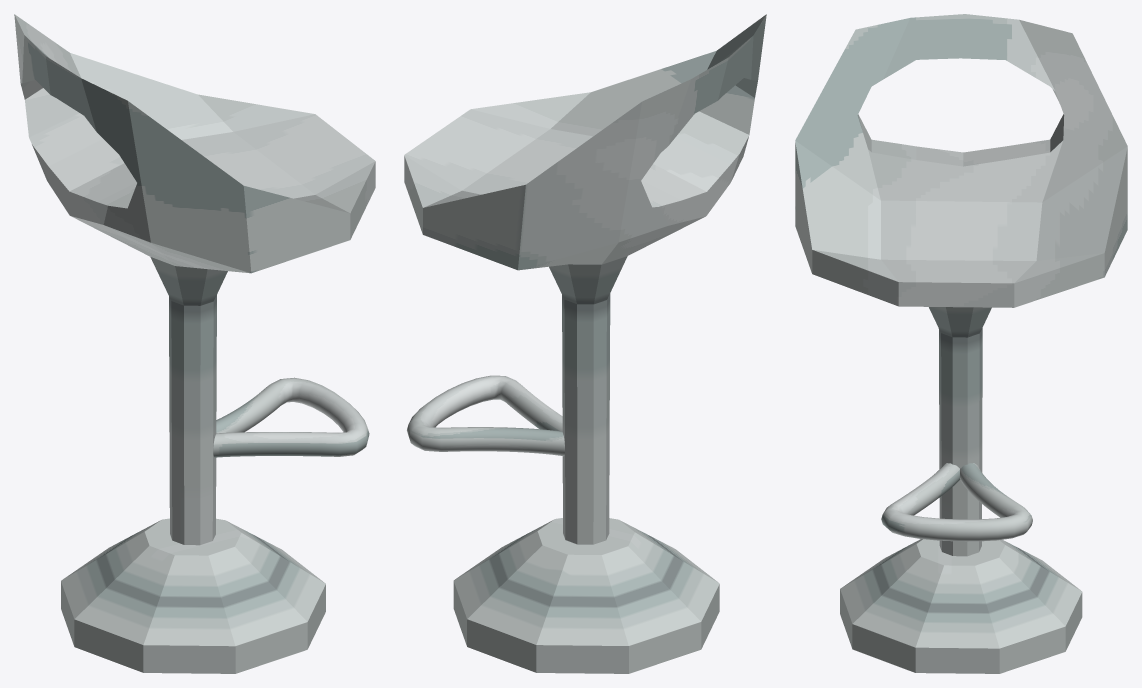
Rendered from Cadeira.fbx.
3 renders of one model, left to right at view 1: azimuth 30°, elevation 25°; view 2: azimuth 150°, elevation 25°; view 3: azimuth 270°, elevation 25°, orthographic. The views are drawn at different scales.
Visible parts, largest first — view 1: Cylinder.001, BézierCurve; view 2: Cylinder.001, BézierCurve; view 3: Cylinder.001, BézierCurve.
Part boxes in pixels (x1,y1,x2,y2): Cylinder.001: (14, 14, 375, 673); BézierCurve: (213, 377, 369, 457); Cylinder.001: (404, 14, 766, 673); BézierCurve: (407, 375, 564, 456); Cylinder.001: (795, 14, 1127, 673); BézierCurve: (881, 463, 1032, 541).
Bounding box in the file's own units: 258 × 489 × 270.
Materials: 2 (2 with a texture image).
